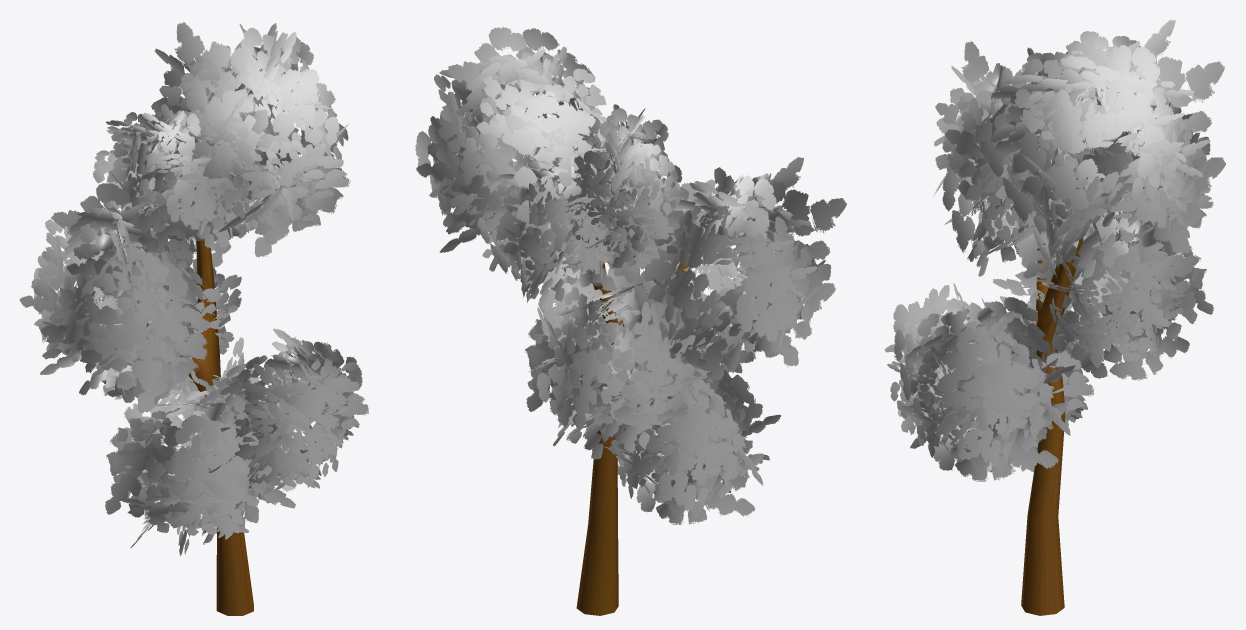
The model's file is SM_ExampleTree1.fbx.
The picture shows the model from 3 angles, left to right: view 1: azimuth 30°, elevation 25°; view 2: azimuth 150°, elevation 25°; view 3: azimuth 270°, elevation 25°; orthographic projection. The views are drawn at different scales.
Visible parts, largest first — view 1: LeafBush.011, LeafBush.017, LeafBush.018, LeafBush.015, LeafBush.014, SM_Tree01_03, LeafBush.016, LeafBush.013; view 2: LeafBush.011, LeafBush.017, LeafBush.016, LeafBush.018, LeafBush.014, LeafBush.013, SM_Tree01_03, LeafBush.015; view 3: LeafBush.017, LeafBush.015, LeafBush.016, LeafBush.011, SM_Tree01_03, LeafBush.013, LeafBush.018, LeafBush.014.
Part boxes in pixels (box(x1,y1,x2,y2)): LeafBush.011: box(19, 183, 211, 413); LeafBush.017: box(151, 22, 350, 257); LeafBush.018: box(105, 383, 295, 556); LeafBush.015: box(198, 328, 369, 491); LeafBush.014: box(93, 99, 243, 247); SM_Tree01_03: box(155, 183, 253, 615); LeafBush.016: box(85, 258, 241, 404); LeafBush.013: box(126, 115, 259, 268); LeafBush.011: box(622, 157, 846, 380); LeafBush.017: box(415, 26, 629, 283); LeafBush.016: box(527, 268, 710, 459); LeafBush.018: box(600, 351, 780, 524); LeafBush.014: box(545, 97, 688, 276); LeafBush.013: box(478, 152, 637, 309); SM_Tree01_03: box(576, 263, 690, 615); LeafBush.015: box(525, 267, 724, 446); LeafBush.017: box(986, 19, 1225, 277); LeafBush.015: box(884, 283, 1075, 481); LeafBush.016: box(993, 218, 1213, 380); LeafBush.011: box(933, 41, 1068, 278); SM_Tree01_03: box(1021, 221, 1082, 615); LeafBush.013: box(1060, 97, 1213, 263); LeafBush.018: box(901, 296, 1094, 473); LeafBush.014: box(1020, 31, 1140, 185).
Bounding box in the file's own units: 1176 × 1731 × 919.
